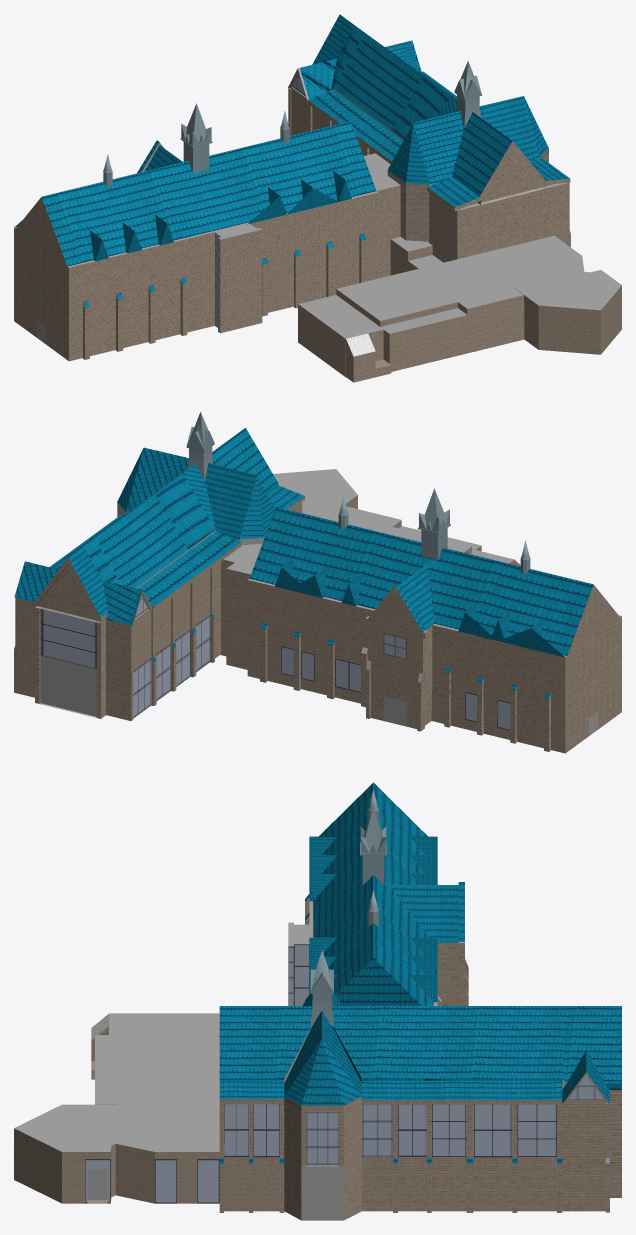
File: Assumption.fbx
3 renders of one model, top to bottom at view 1: azimuth 30°, elevation 25°; view 2: azimuth 150°, elevation 25°; view 3: azimuth 270°, elevation 25°, orthographic. The views are drawn at different scales.
Parts seen in each view (by area): view 1: assumption_2, assumption1, spire1, spire2; view 2: assumption1, assumption_2, spire1, spire2; view 3: assumption_2, assumption1, spire1, spire2.
Part boxes in pixels (<box>): assumption_2: <box>288,14,621,382</box>; assumption1: <box>14,121,400,361</box>; spire1: <box>180,103,212,173</box>; spire2: <box>454,61,481,128</box>; assumption1: <box>220,507,621,753</box>; assumption_2: <box>14,428,520,720</box>; spire1: <box>418,488,450,560</box>; spire2: <box>186,412,214,480</box>; assumption_2: <box>14,993,621,1220</box>; assumption1: <box>288,782,468,1006</box>; spire1: <box>360,806,386,885</box>; spire2: <box>310,950,333,1026</box>.
Bounding box in the file's own units: 16.69 × 6.73 × 15.85.
